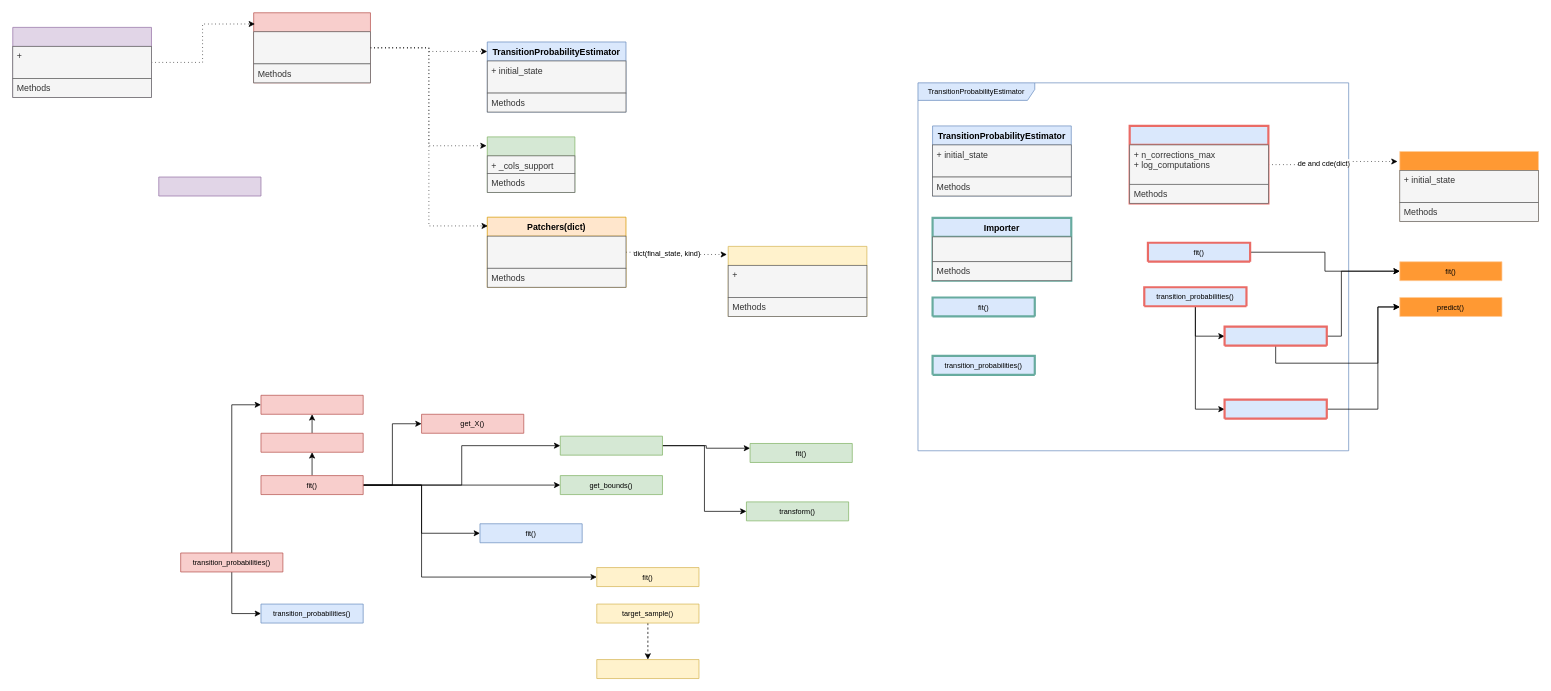
This 1551x691 diagram has some shape labels left out. Each missing label, with the box of its shape:
+ dict(final_state, kind) kind in {'ext', 'isl'}: (487, 235, 626, 268)
+ initial_state + final_states: (253, 31, 370, 64)
+ proba_layer: (932, 236, 1071, 262)
allocate(): (158, 176, 261, 196)
Allocator: (12, 27, 151, 97)
Bayes: (1128, 124, 1269, 204)
Calibrator: (253, 12, 370, 83)
compute_P_Y(): (1223, 325, 1328, 346)
compute_P_Y__v(): (1223, 398, 1328, 419)
DensityEstimator: (1399, 151, 1538, 222)
FeatureSelector: (487, 136, 575, 192)
fit_transform(): (560, 435, 662, 455)
get_J(): (260, 395, 363, 414)
get_J_V(): (260, 433, 363, 452)
Patcher: (727, 246, 867, 316)
sample(): (596, 659, 699, 679)
